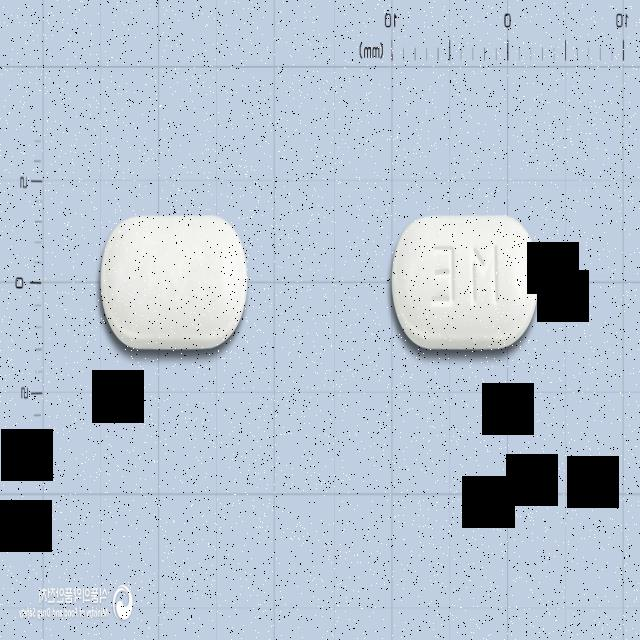Meiact Tab- Boryung: (99, 213, 246, 351), (391, 216, 538, 352)
